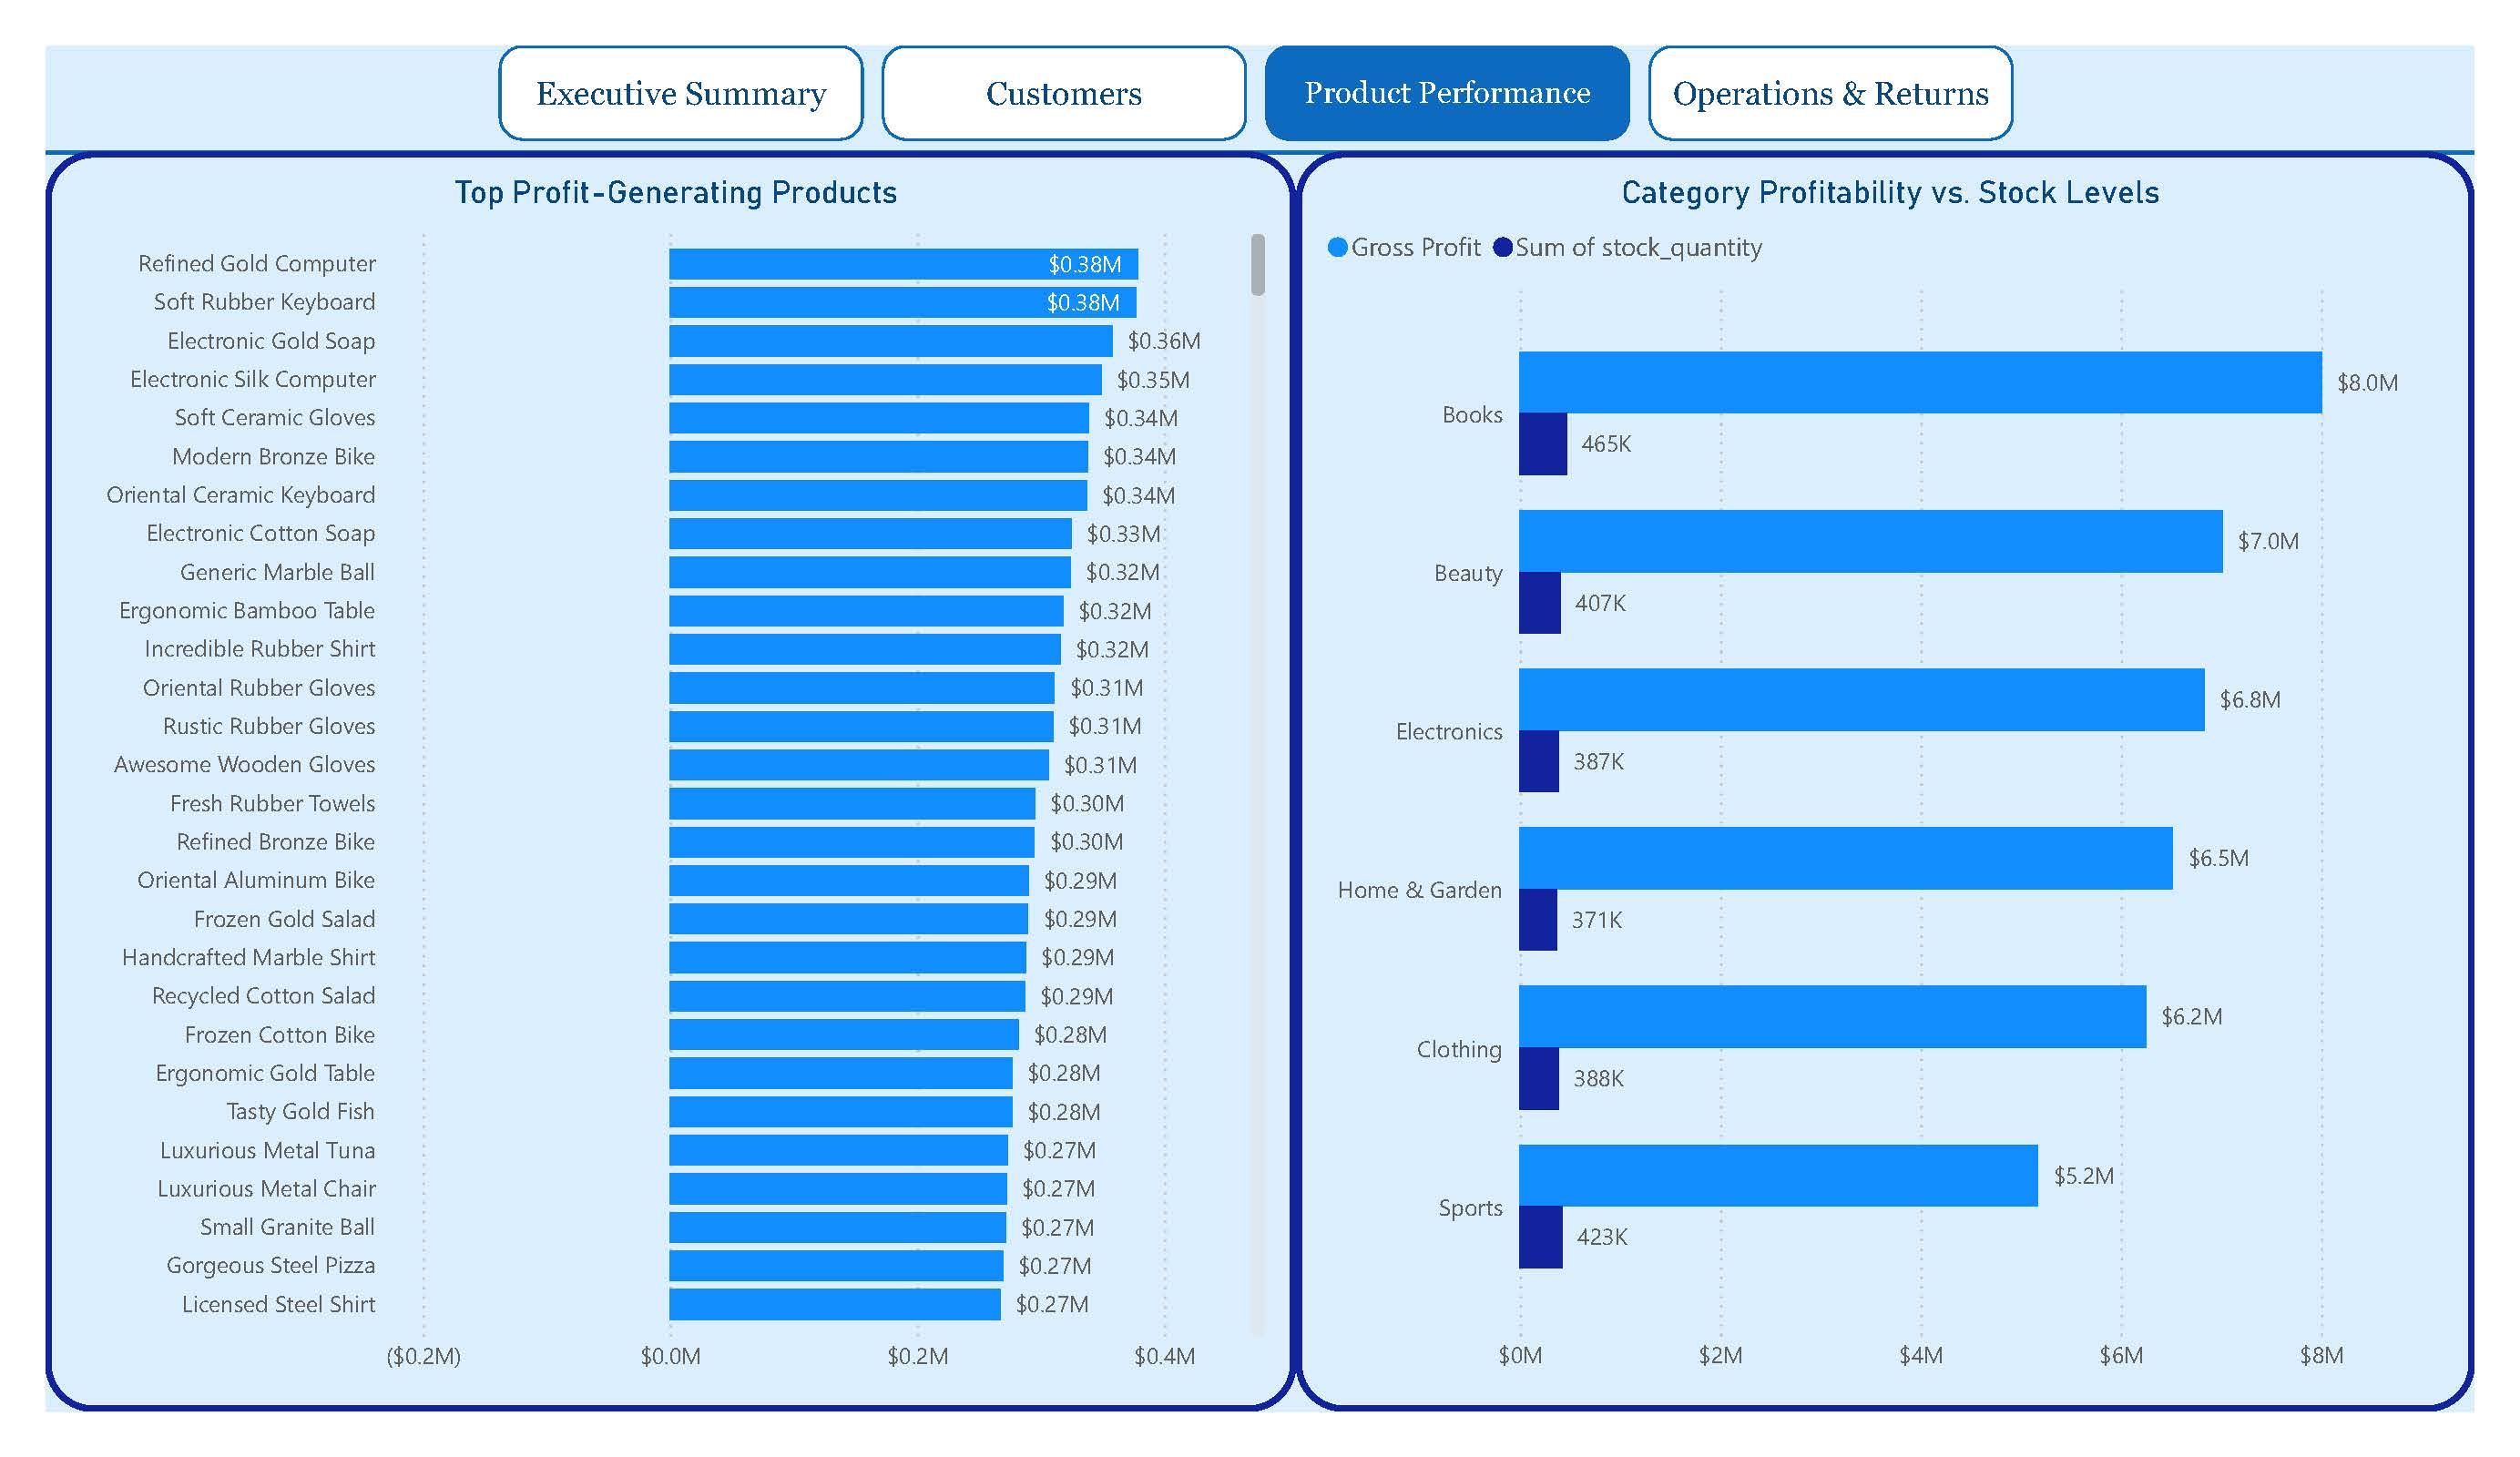

The dashboard page shown, as its layout file describes it:
{"tool":"powerbi","page":{"name":"Product Performance","canvas":[1280,720],"ordinal":2},"visuals":[{"type":"shape","box":[0,0,1280,112.8],"z":0},{"type":"pageNavigator","box":[239.3,0,800.5,49.6],"z":1000},{"type":"barChart","title":"Top Profit-Generating Products","fields":{"Y":["Measure.Gross Profit"],"Category":["products.name"]},"box":[0,56.3,658.6,664.2],"z":2000},{"type":"clusteredBarChart","title":"Category Profitability vs. Stock Levels","fields":{"Category":["products.category","products.name"],"Y":["Measure.Gross Profit","Sum(products.stock_quantity)"]},"box":[658.6,56.3,621.4,664.2],"z":3000}]}

Visuals, with their boxes on the page's 1280x720 design canvas (x1, y1, x2, y2). These are canvas units, not pixel positions in the 2520x1457 screenshot, which may show the page scaled, cropped or inside an application window:
shape: locate(0, 0, 1280, 113)
pageNavigator: locate(239, 0, 1040, 50)
"Top Profit-Generating Products" barChart: locate(0, 56, 659, 720)
"Category Profitability vs. Stock Levels" clusteredBarChart: locate(659, 56, 1280, 720)
